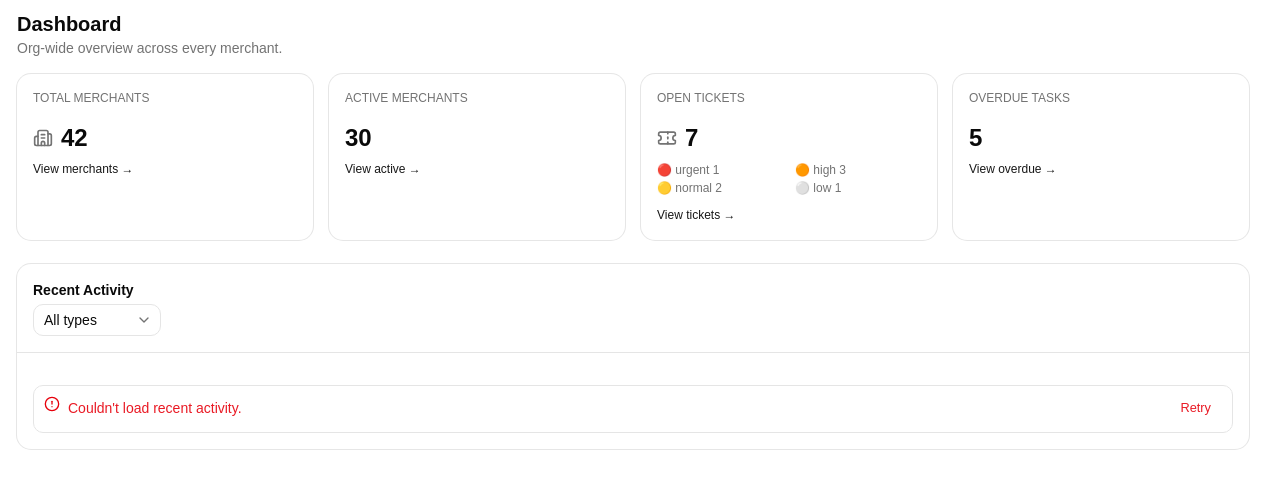
DashboardPage › shows an activity-feed error state with retry, independent of successful KPI tiles
The width and height of the screenshot is (1267, 489).
Expected: the text "42" is shown, [33,124,88,151]
Expected: the text "Couldn't load recent activity." is shown, [68,400,242,416]
Step 1. Click the button "Retry" → (1196, 408), box [1169,394,1222,422]
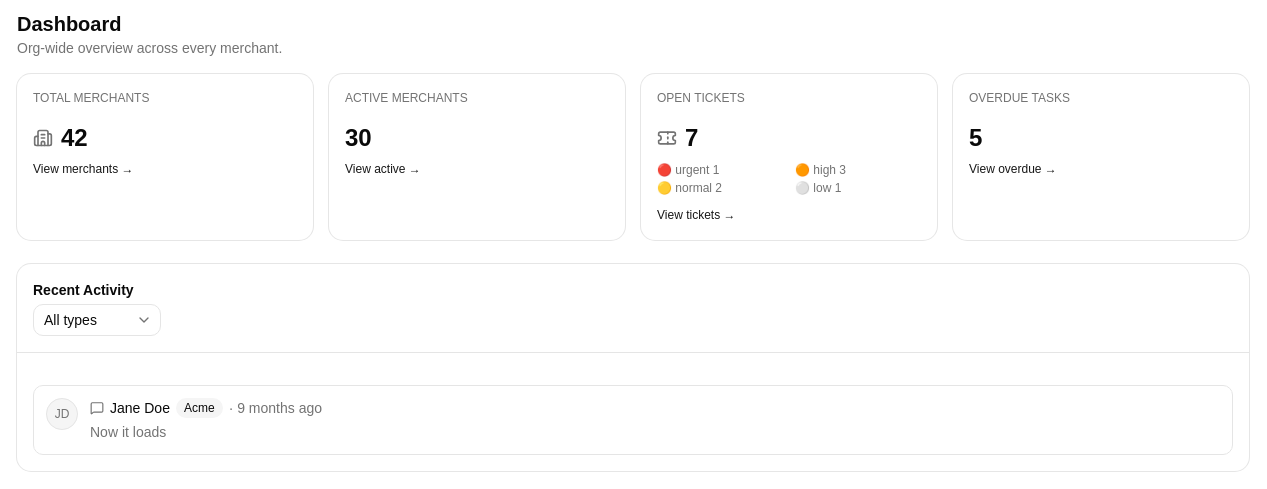
Expected: the text "Now it loads" is shown, [90,424,166,440]
